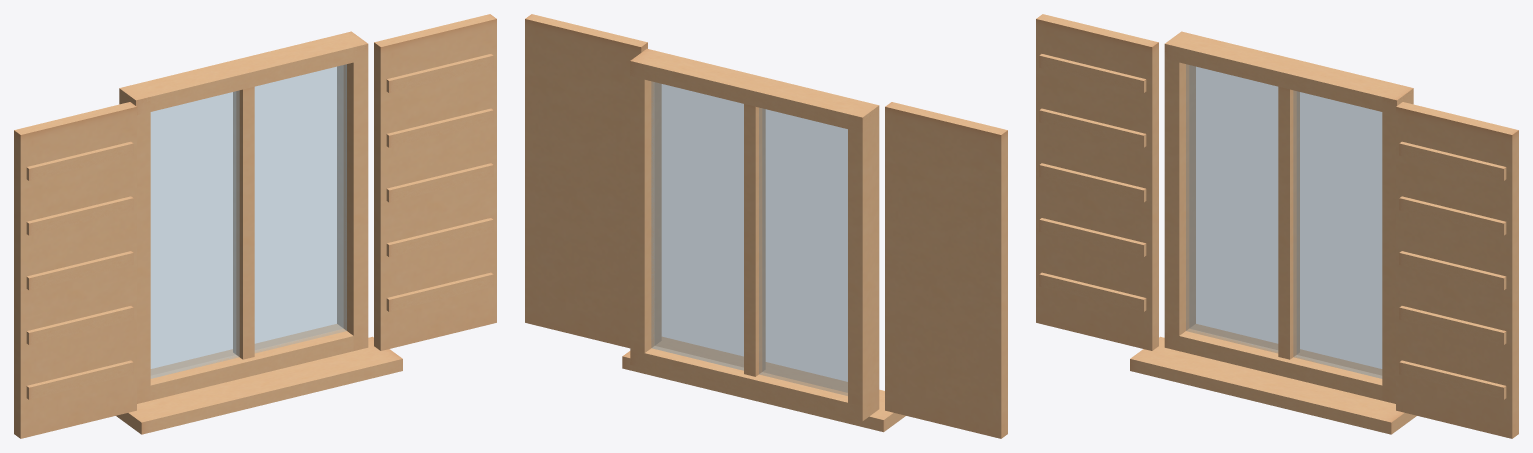
The model's file is Window_Shutters.fbx.
3 views of the same model, side by side, from view 1: azimuth 30°, elevation 25°; view 2: azimuth 150°, elevation 25°; view 3: azimuth 330°, elevation 25° (orthographic).
Visible parts, largest first — view 1: Window_Shutters; view 2: Window_Shutters; view 3: Window_Shutters.
Part boxes in pixels (x1,y1,x2,y2): Window_Shutters: (14, 14, 496, 438); Window_Shutters: (525, 14, 1007, 438); Window_Shutters: (1036, 14, 1518, 438).
Size of the model in its own units: 1.64 by 1.04 by 0.22.
